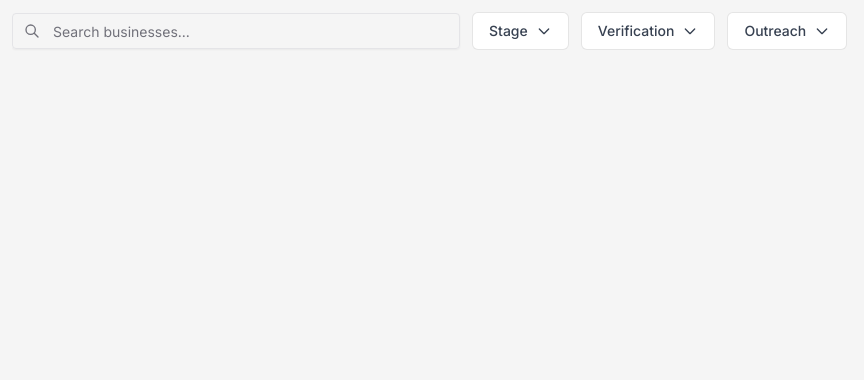
Test: FilterBar - Keyboard Navigation › focuses first option when dropdown opens
Step 1. Click the button "Stage" → {"x": 520, "y": 31}, box top-left (472, 12), bottom-right (569, 50)
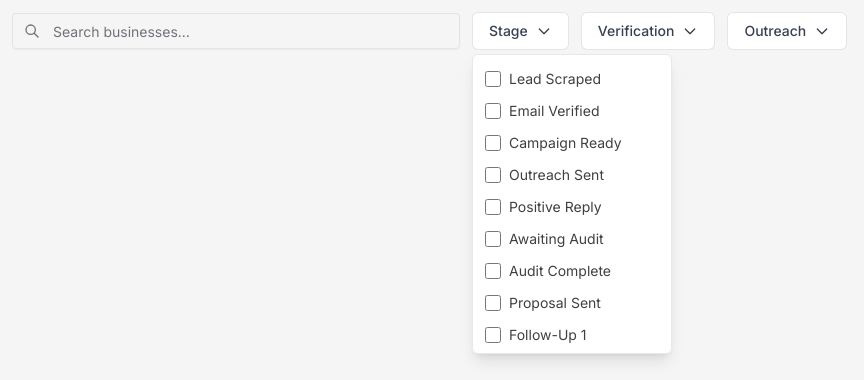
expect the text "Lead Scraped" is shown: met, box top-left (509, 69), bottom-right (601, 89)
